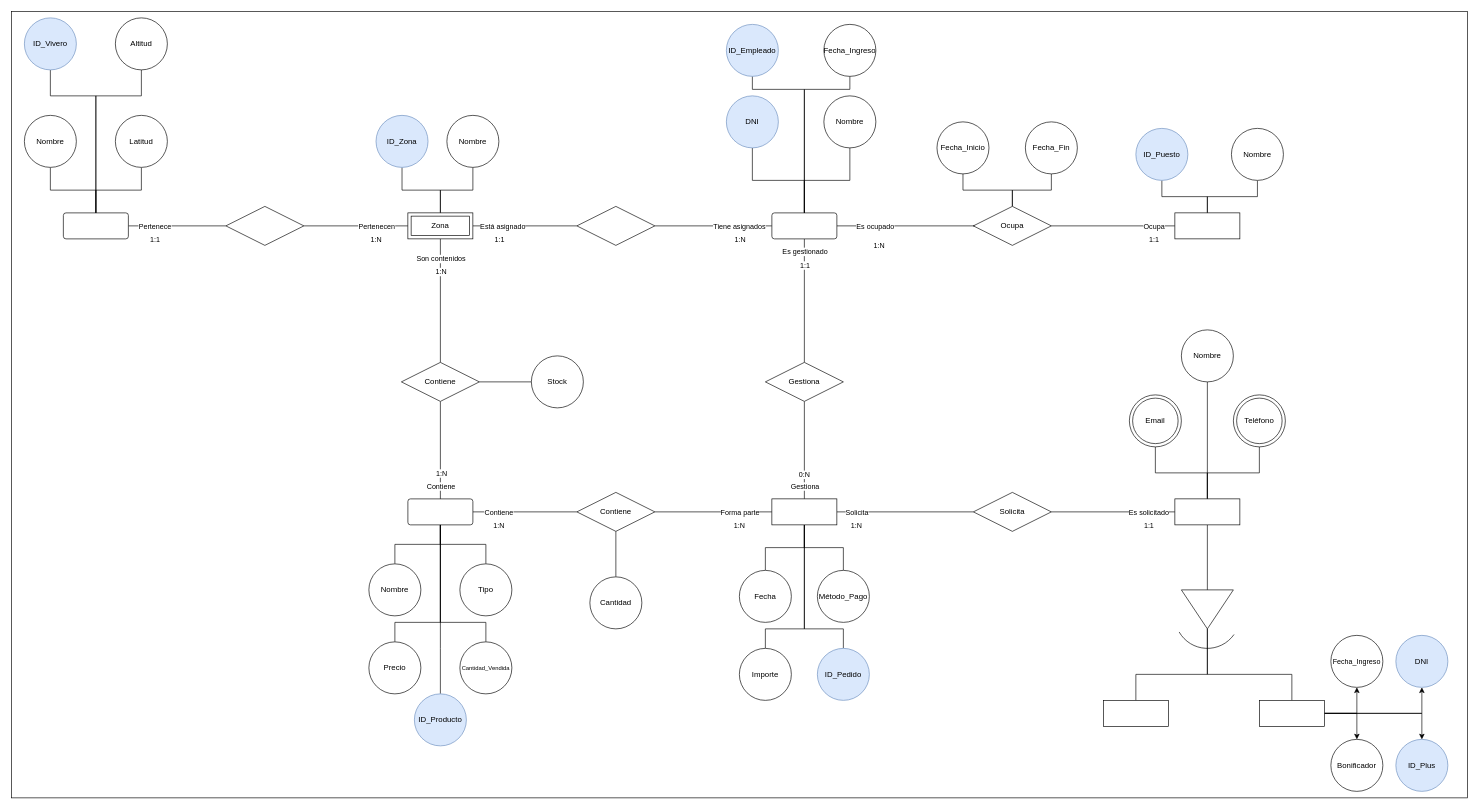
The diagram is 1479 pixels wide and 809 high, and some of its shapes have lost their labels. Each missing label, with the centre of its shape:
Asignado: [615,225]
Cliente: [1207,511]
Cliente_Normal: [1135,713]
Cliente_Plus: [1291,713]
Empleado: [804,225]
ID Pertenece: [264,225]
Pedido: [804,511]
Producto: [440,511]
Puesto: [1207,225]
Vivero: [95,225]
